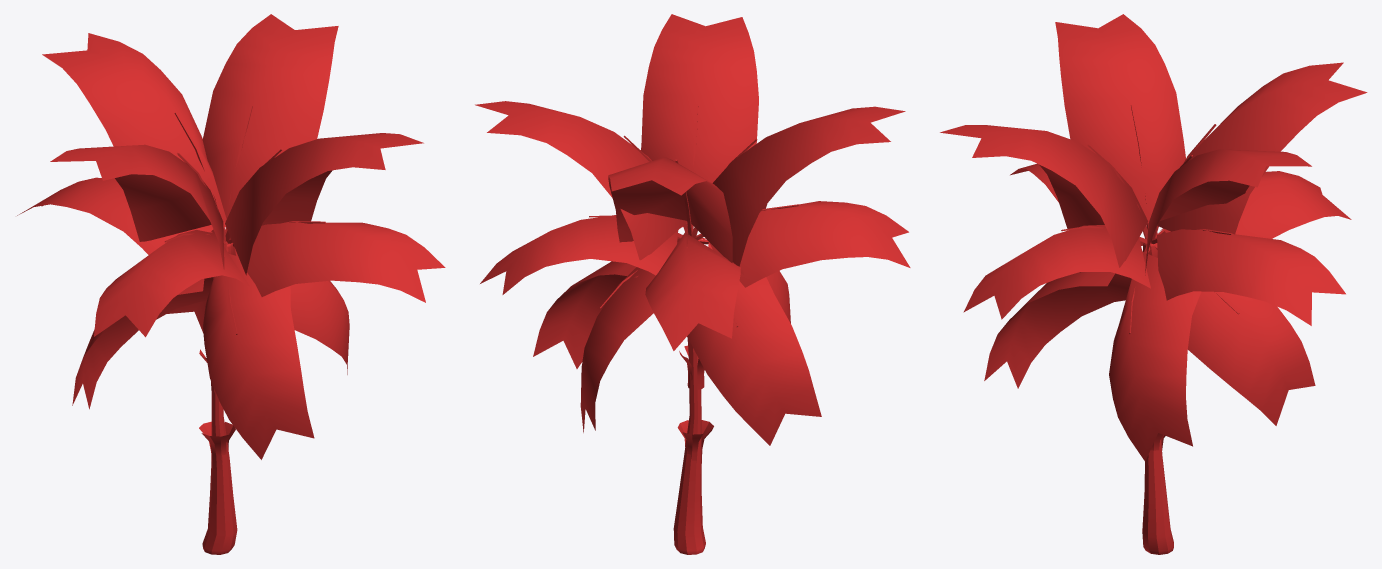
The model's file is Palm_S_01.fbx.
3 views of the same model, side by side, from view 1: azimuth 30°, elevation 25°; view 2: azimuth 150°, elevation 25°; view 3: azimuth 270°, elevation 25° (orthographic).
Parts seen in each view (by area): view 1: Palm_S_01; view 2: Palm_S_01; view 3: Palm_S_01.
Part boxes in pixels (x1,y1,x2,y2): Palm_S_01: (17,14,445,554); Palm_S_01: (475,14,910,554); Palm_S_01: (940,14,1367,554).
Bounding box in the file's own units: 250 × 301 × 261.
